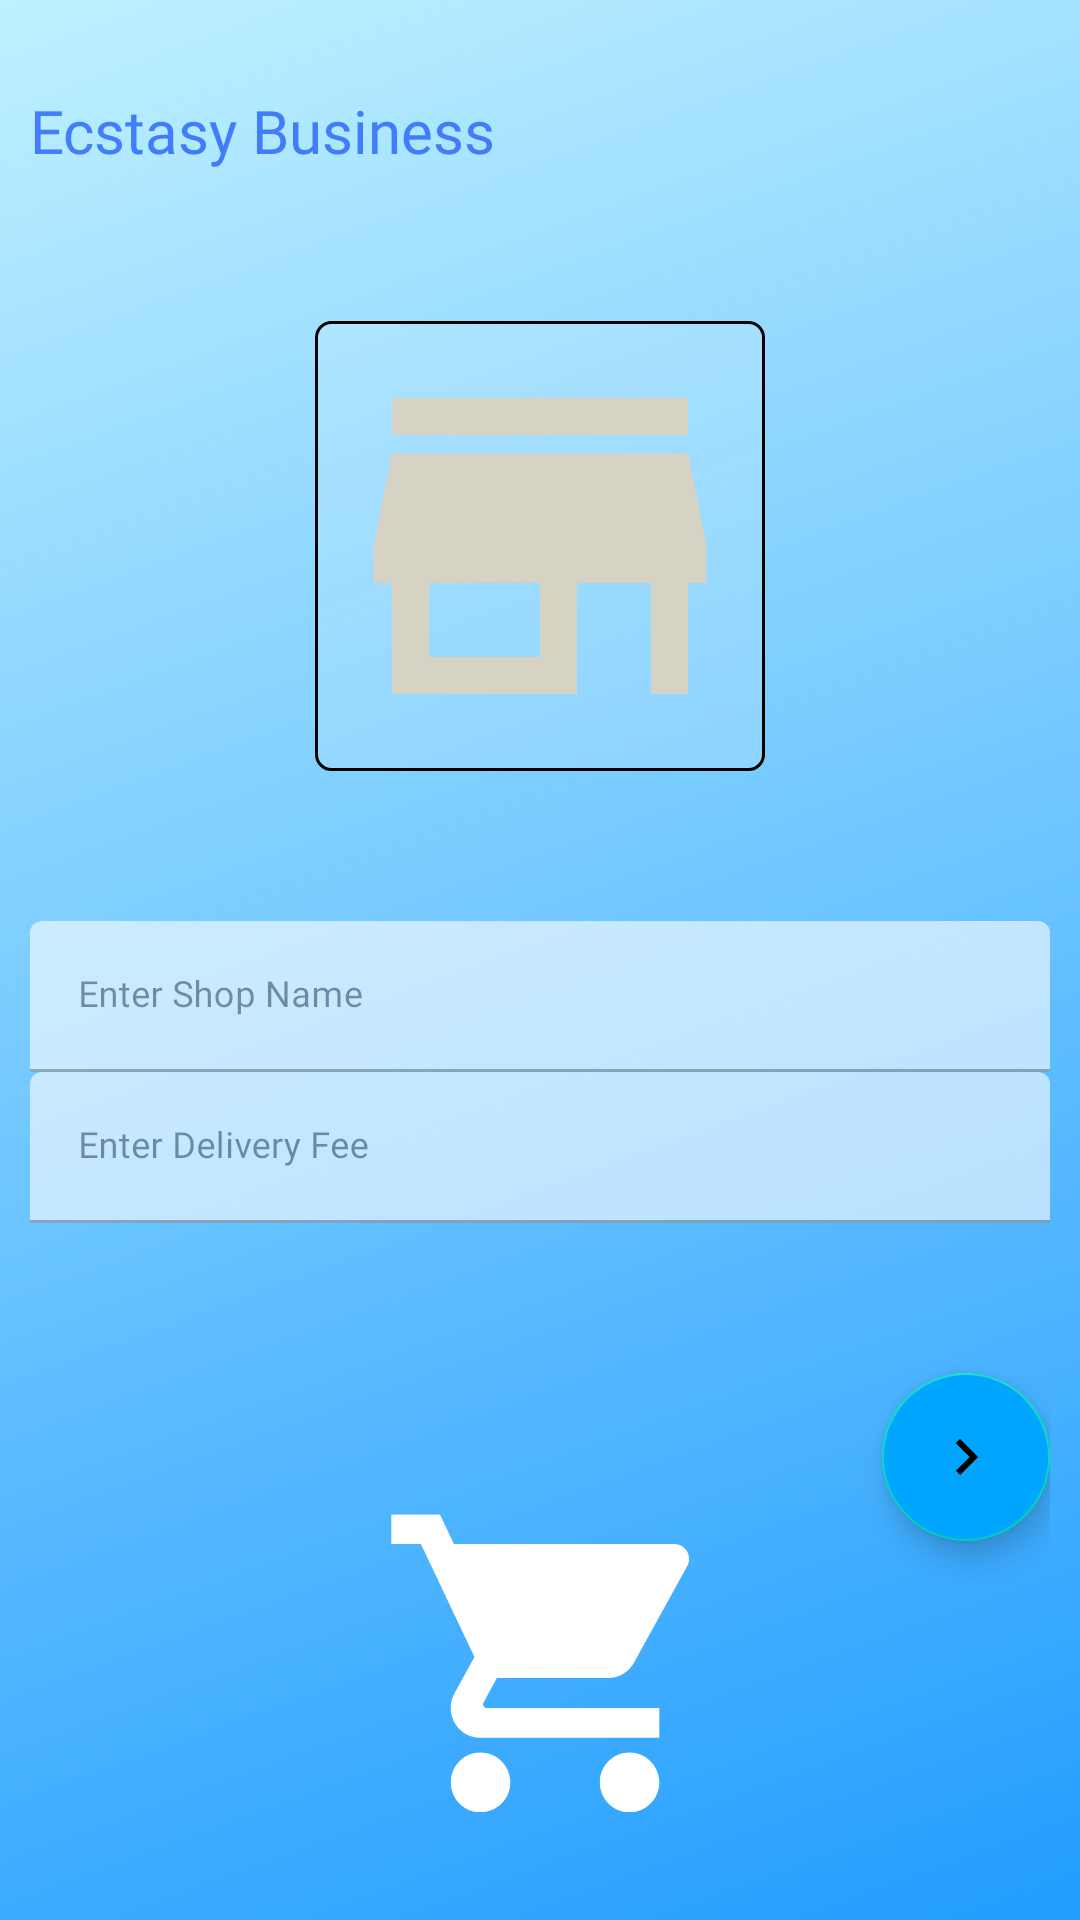

Icons on this 1080x1920 Android screen, each with its box as (x1, y1, x2, y2):
next: (882, 1373, 1050, 1541)
